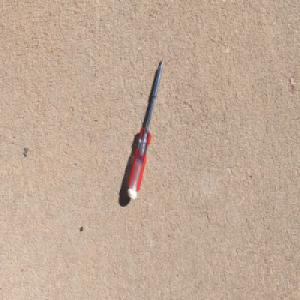Screwdriver: (127, 55, 164, 200)
